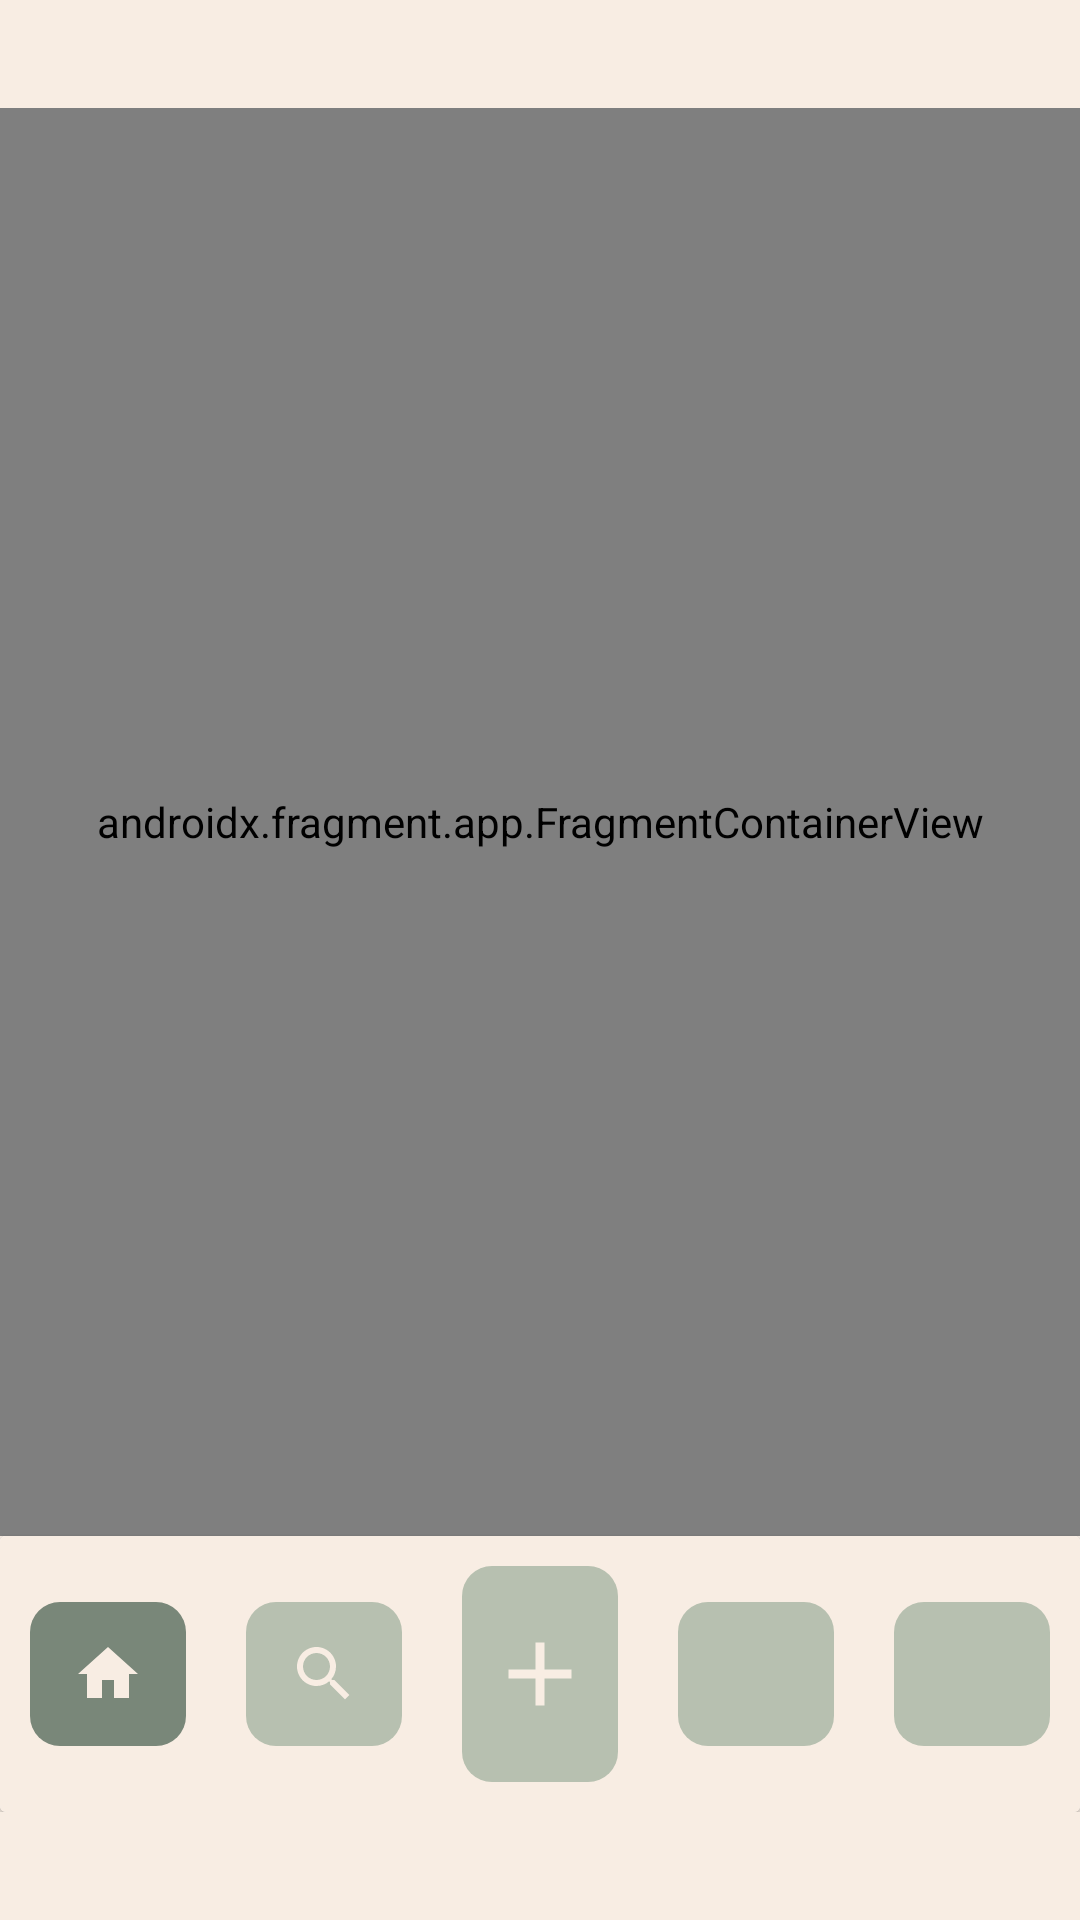

Named icons in this screenshot (1080px×1920px) and their bounding boxes, (left=x1, top=y1, right=x2, bottom=y2):
Home: (left=30, top=1602, right=186, bottom=1746)
Search: (left=246, top=1602, right=402, bottom=1746)
